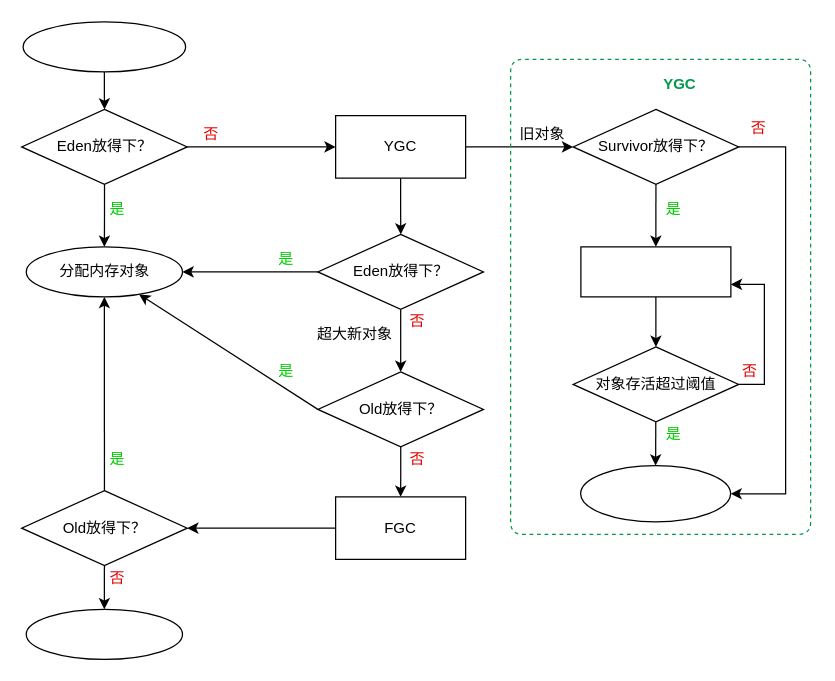
The diagram is 835 pixels wide and 681 high, and some of its shapes have lost their labels. The centre of each missing label's shape, as x and y in pixels:
"OOM" goes at pixel 103 633.
"放置在S0/S1区域" goes at pixel 655 271.
"新对象申请" goes at pixel 104 46.
"晋升至老年代" goes at pixel 655 493.
